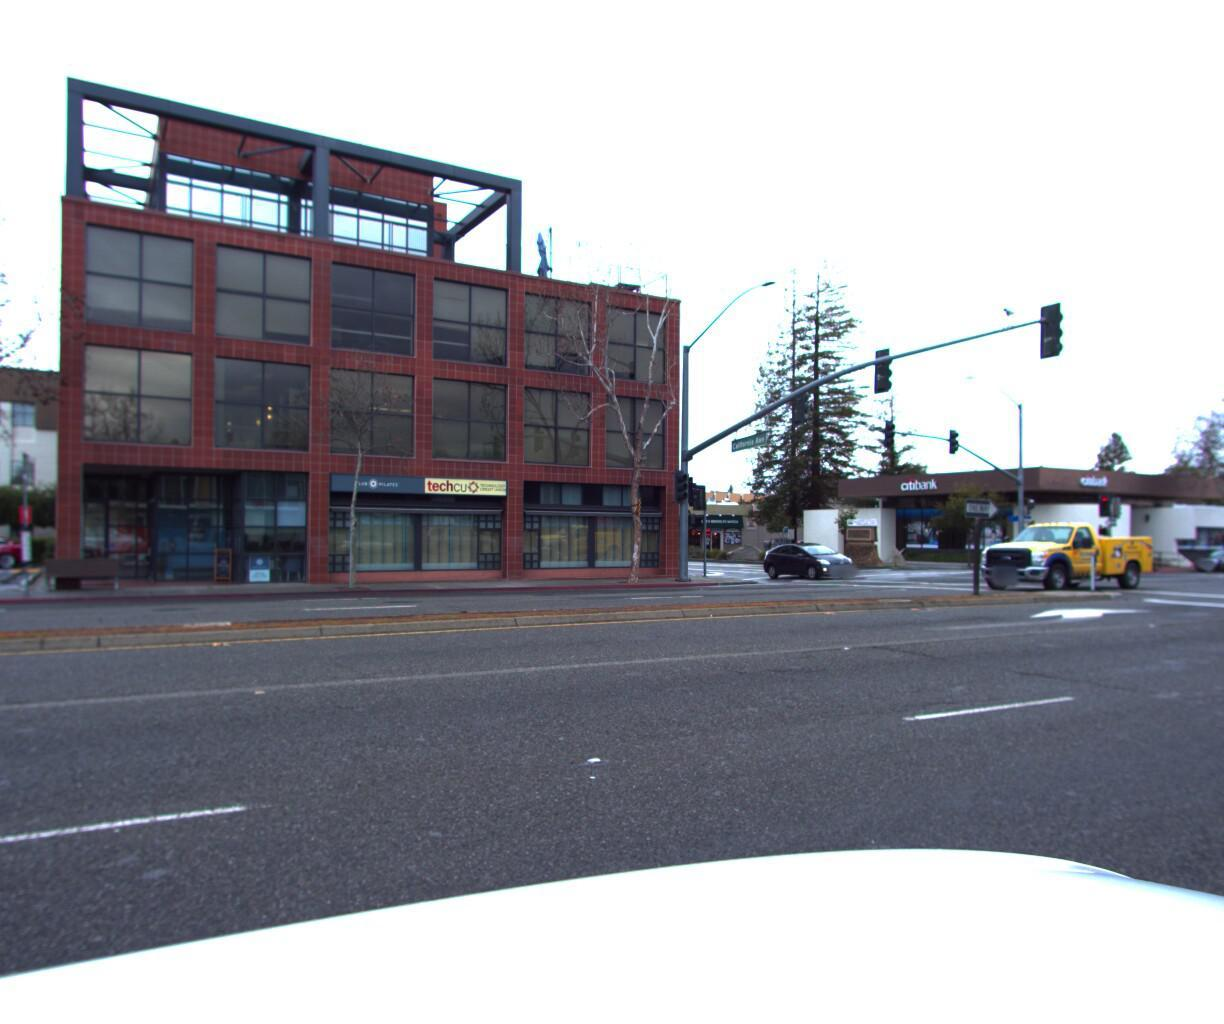car: (963, 515, 1167, 601), (757, 550, 859, 589), (1185, 556, 1224, 584)
